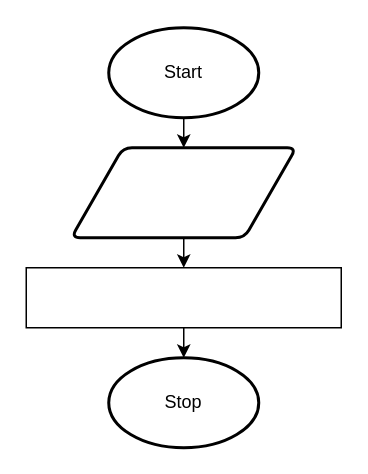
The diagram is 368 pixels wide and 474 high, and some of its shapes have lost their labels. Here are the shapes that lost their labels. From the top down, the centre of each, then its label:
the point at 183,192: get pushedNum
the point at 183,297: this.stack.push(pushedNum)
